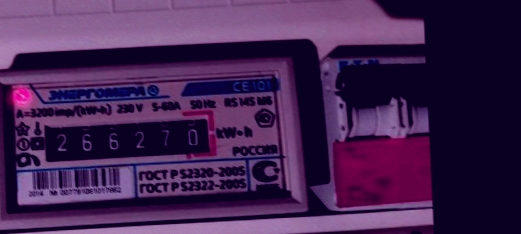0: (185, 125, 198, 147)
2: (54, 130, 68, 152), (132, 128, 145, 149)
6: (80, 131, 94, 152), (106, 130, 119, 149)
7: (157, 126, 171, 148)
screen: (34, 105, 223, 171)
